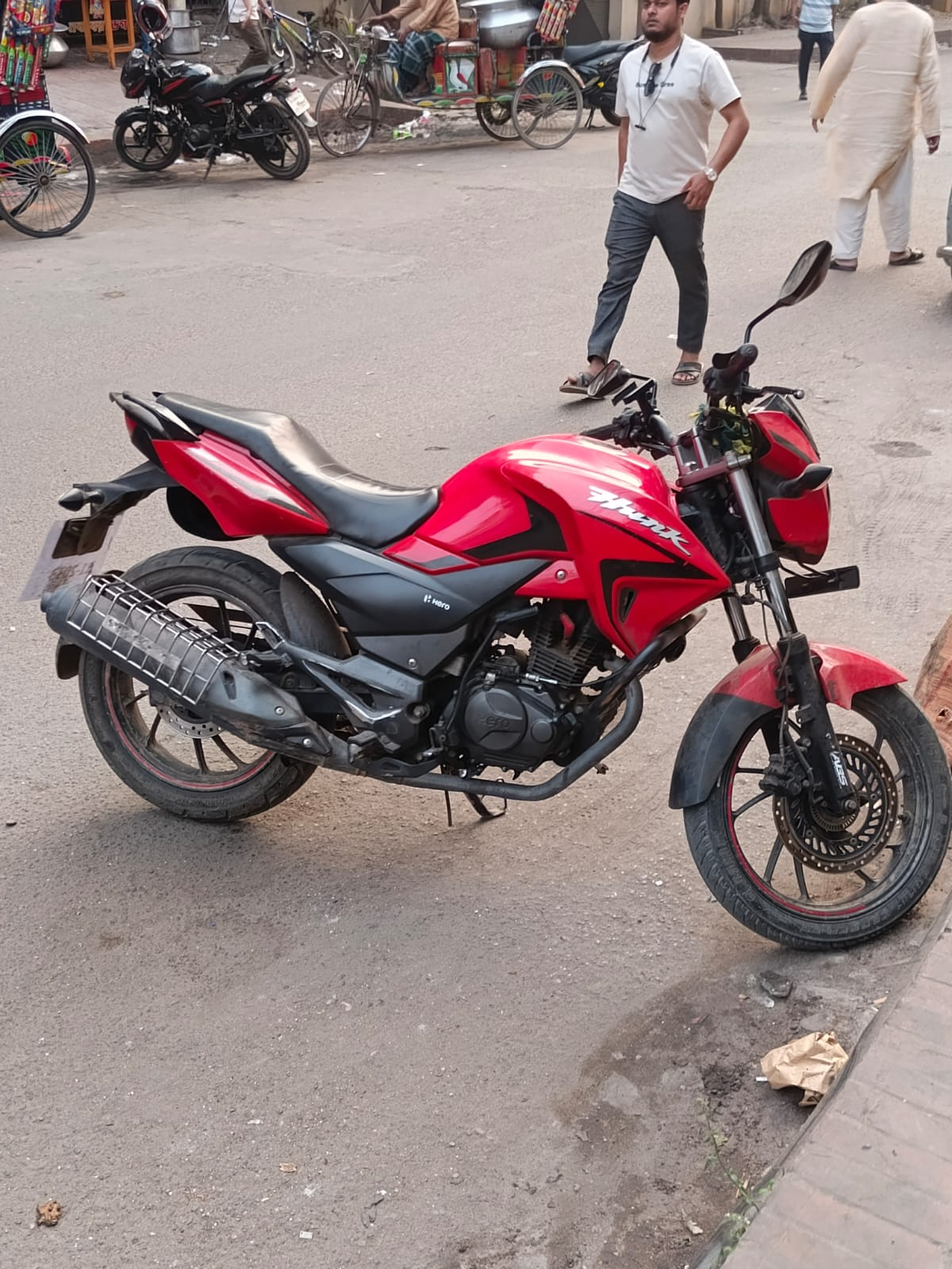Bikes: (42, 252, 952, 1033), (100, 38, 345, 194)
auto-ricksaw: (328, 0, 649, 185), (0, 6, 123, 264)
